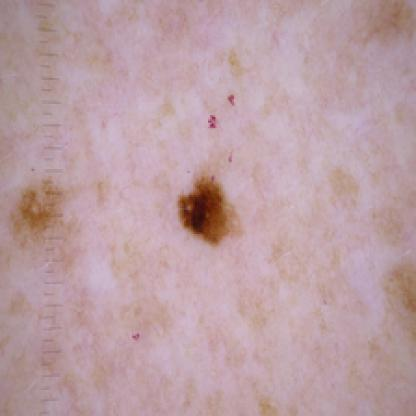benign: (7, 171, 249, 271)
